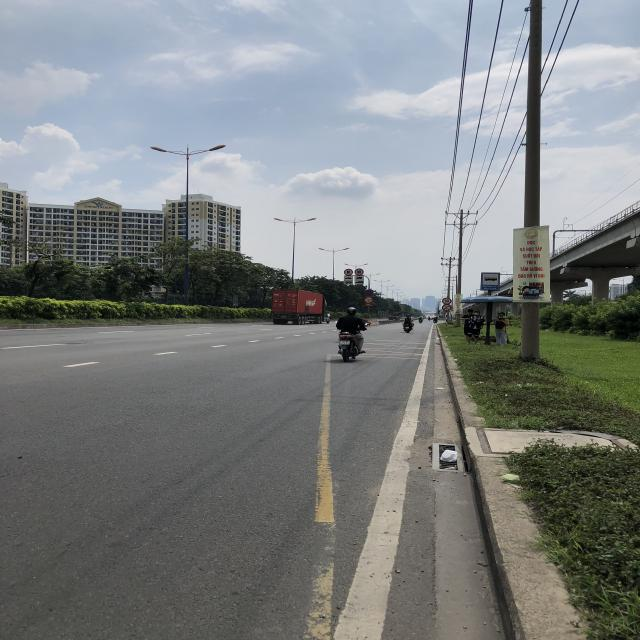Bien bao cam xe oto khach va xe oto tai: (441, 304, 452, 313)
Bien bao toc do toi da cho phep: (342, 268, 354, 276), (441, 296, 453, 304), (354, 268, 364, 276)
